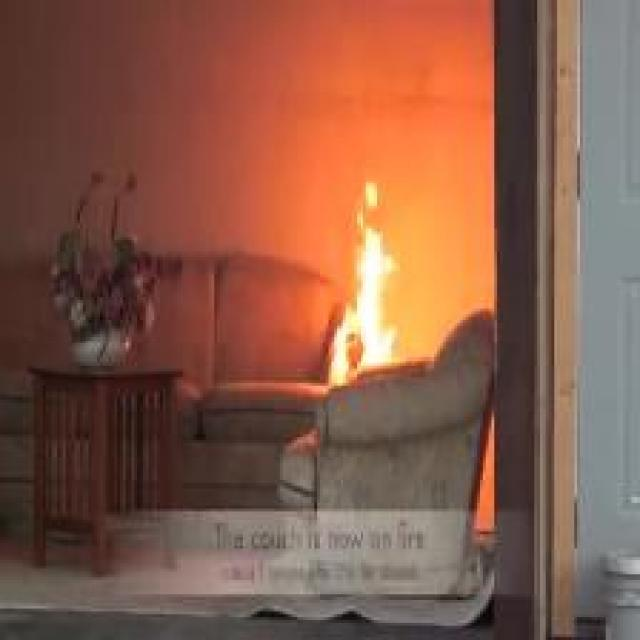Fire: (330, 183, 396, 386)
